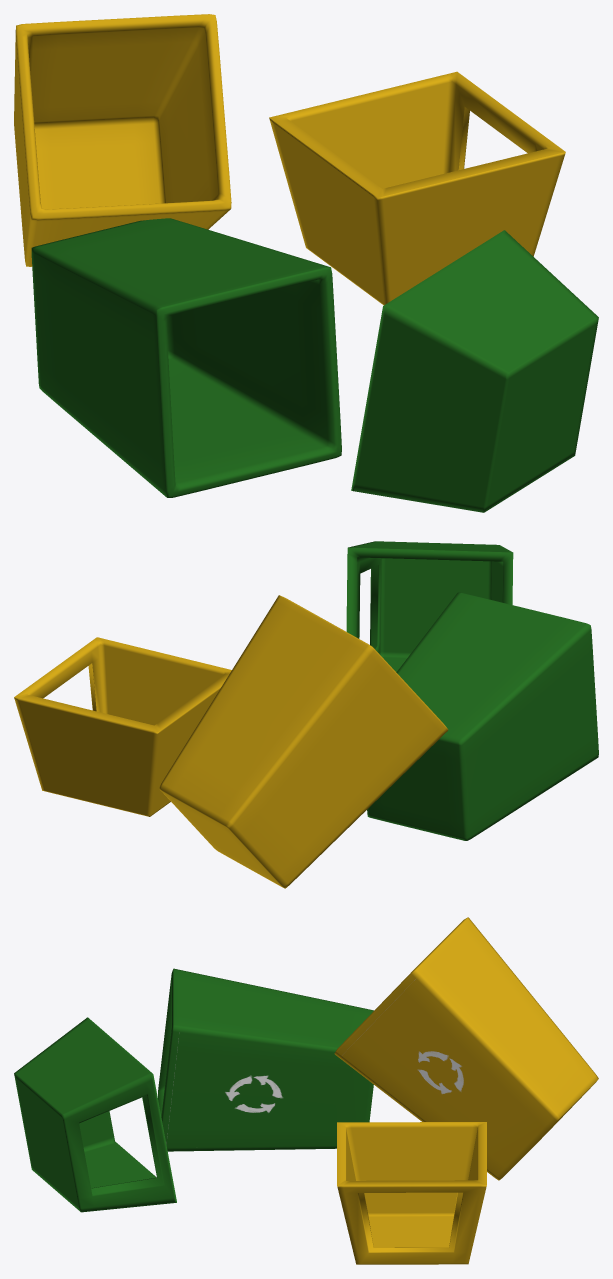
The model's file is transbin.fbx.
The picture shows the model from 3 angles, top to bottom: view 1: azimuth 30°, elevation 25°; view 2: azimuth 150°, elevation 25°; view 3: azimuth 270°, elevation 25°; orthographic projection. The views are drawn at different scales.
Parts seen in each view (by area): view 1: Cube; view 2: Cube; view 3: Cube.
Part boxes in pixels (bbox=[...]): Cube: bbox=[14, 14, 598, 512]; Cube: bbox=[14, 541, 598, 888]; Cube: bbox=[14, 917, 598, 1264].
Size of the model in its own units: 561 by 303 by 781.
4 materials, 4 textured.
